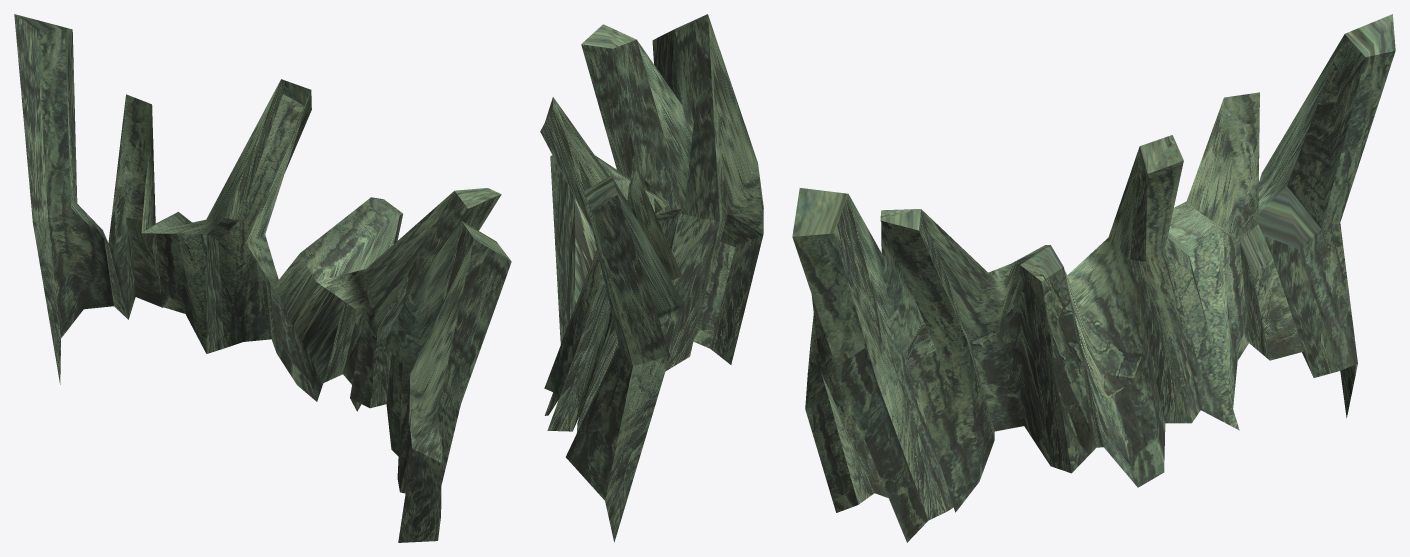
The model's file is 10104_CStone05.FBX.
3 views of the same model, side by side, from view 1: azimuth 30°, elevation 25°; view 2: azimuth 150°, elevation 25°; view 3: azimuth 270°, elevation 25° (orthographic). The views are drawn at different scales.
Parts seen in each view (by area): view 1: Plane015; view 2: Plane015; view 3: Plane015.
Part boxes in pixels (x1=…): Plane015: x1=14, y1=14, x2=511, y2=542; Plane015: x1=540, y1=14, x2=763, y2=542; Plane015: x1=792, y1=14, x2=1395, y2=542.
Size of the model in its own units: 259 by 360 by 462.
